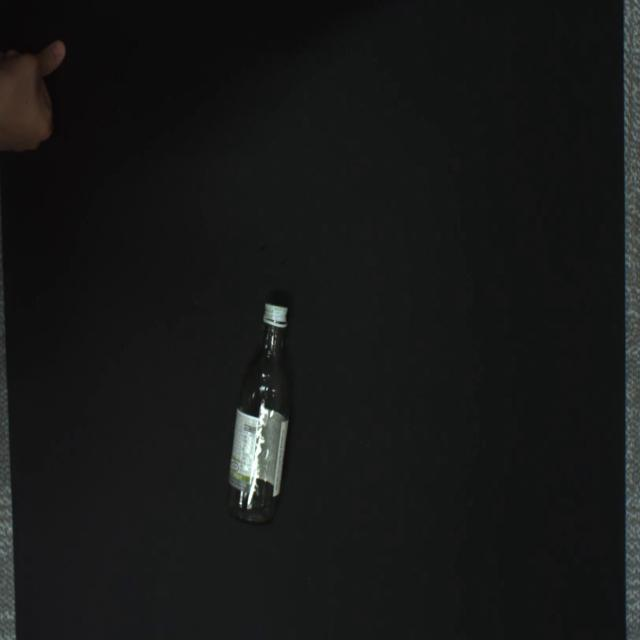soju-bottle: (225, 302, 292, 524)
